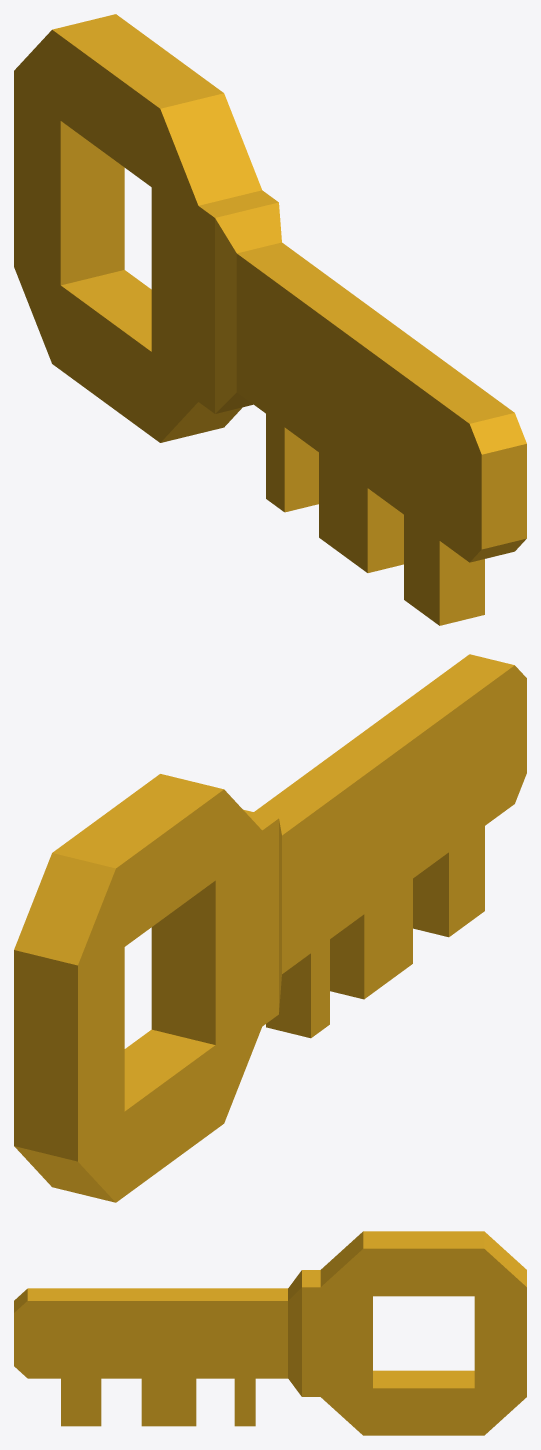
Rendered from Key.fbx.
3 views of the same model, one above another, from view 1: azimuth 30°, elevation 25°; view 2: azimuth 150°, elevation 25°; view 3: azimuth 270°, elevation 25° (orthographic). The views are drawn at different scales.
Parts seen in each view (by area): view 1: Cube; view 2: Cube; view 3: Cube.
Part boxes in pixels (bbox=[...]): Cube: bbox=[14, 14, 526, 625]; Cube: bbox=[14, 654, 526, 1202]; Cube: bbox=[14, 1231, 526, 1435].
Bounding box in the file's own units: 40 × 200 × 497.
